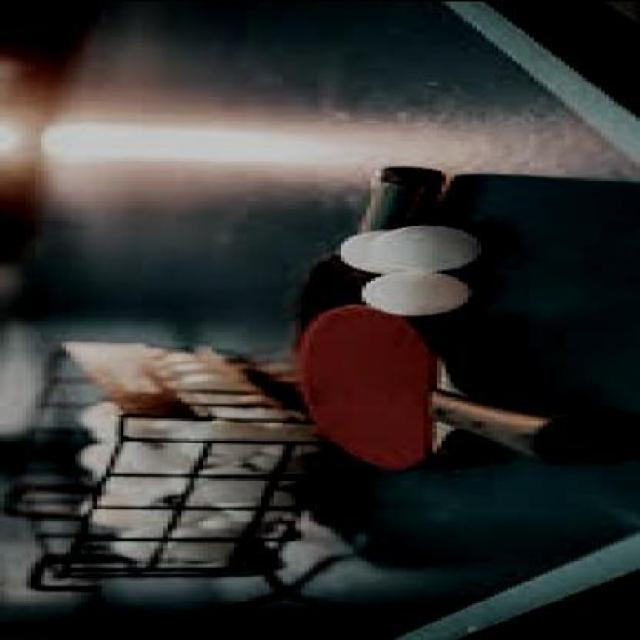table_tennis_racket: (300, 302, 458, 468)
